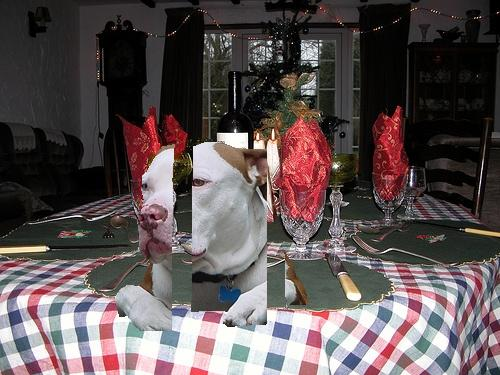tampered: (116, 143, 310, 331)
